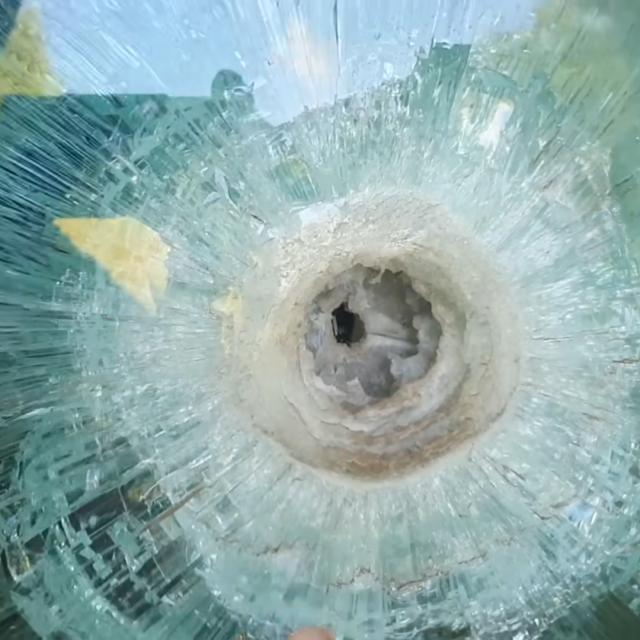bullets: (210, 188, 538, 492)
